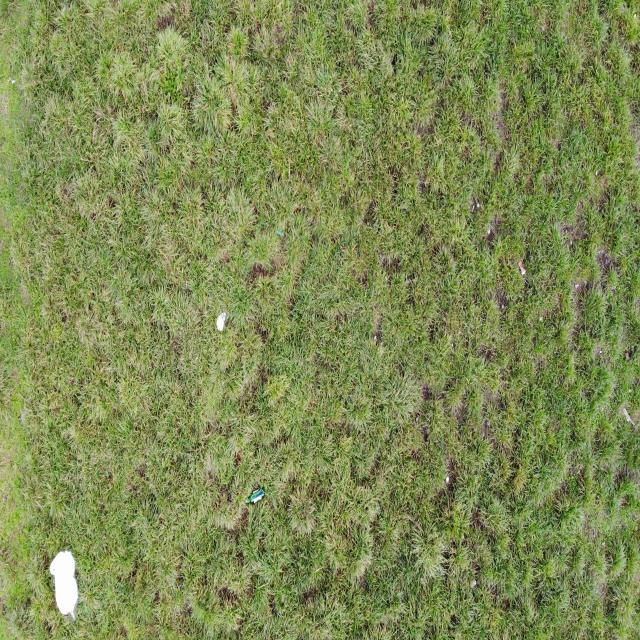rubbish: (49, 549, 79, 614), (244, 484, 265, 502), (215, 311, 227, 331), (518, 260, 528, 275)
